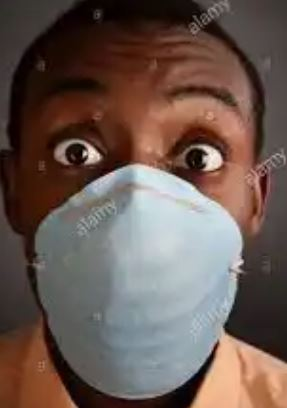with_facemask: (12, 188, 269, 381)
